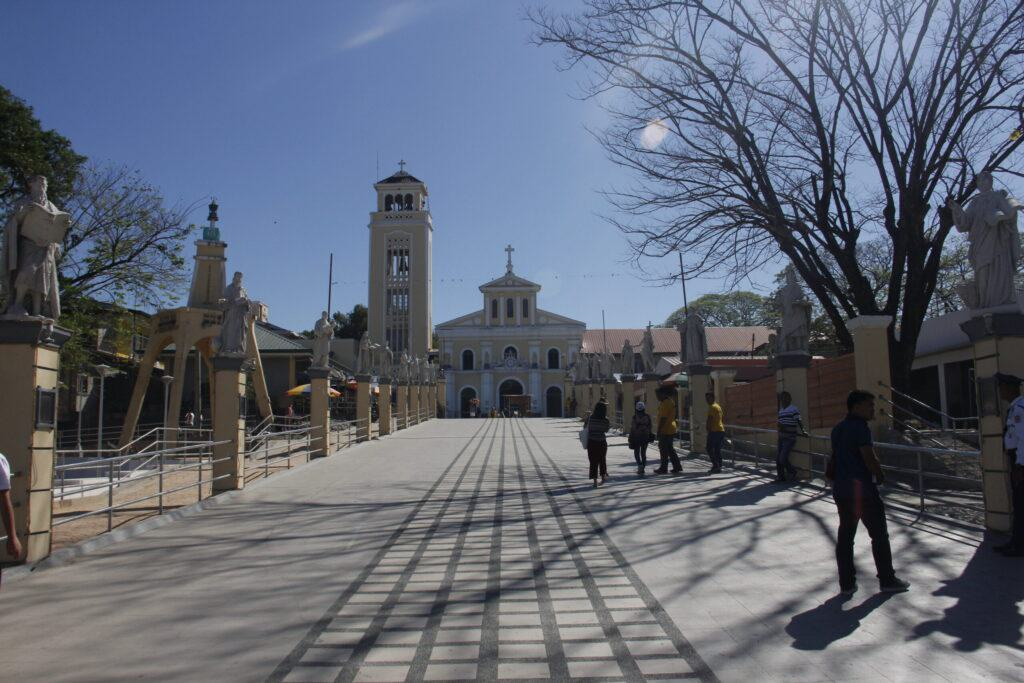manaoag_church_manaoag_pangasinan: (360, 154, 589, 420)
